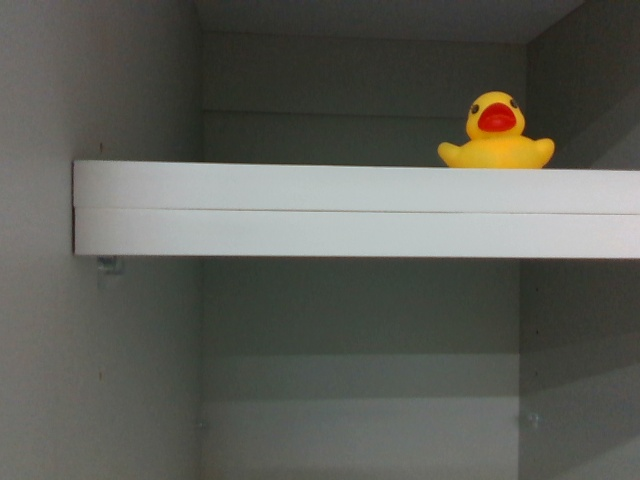duck: (431, 83, 561, 176)
